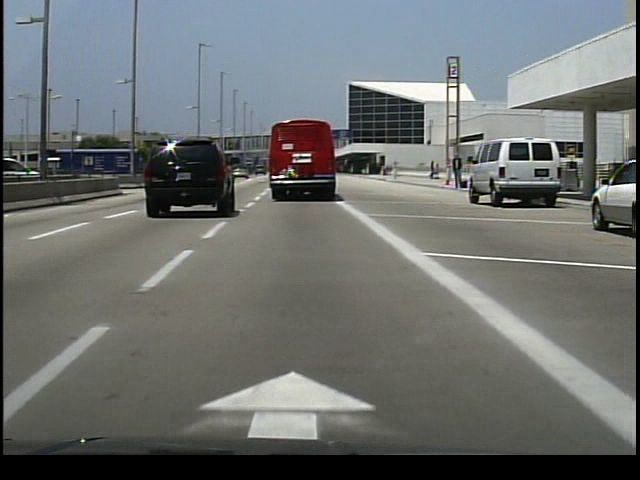person: (449, 152, 463, 194)
